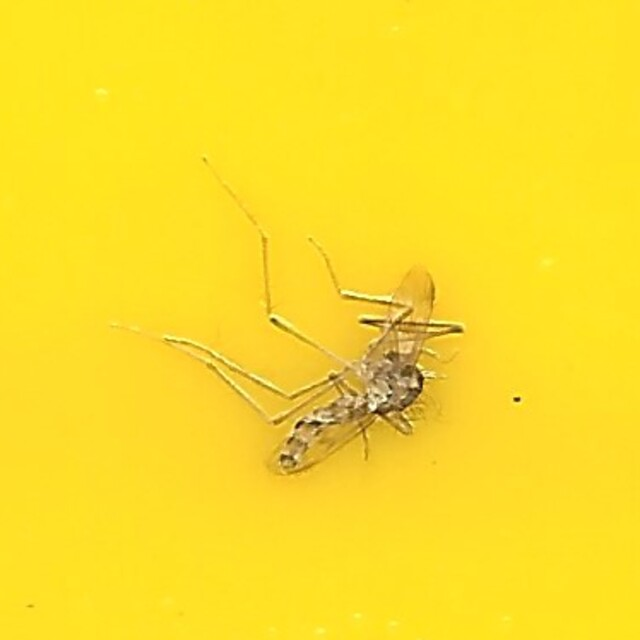Nematocera: (171, 156, 469, 484)
